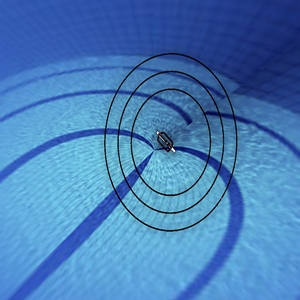circle: (91, 41, 265, 248)
submarine: (148, 121, 180, 161)
